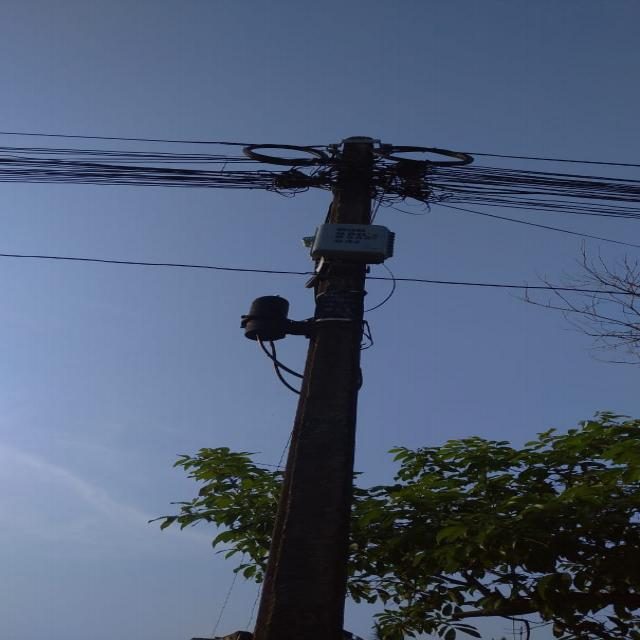light_pole: (242, 124, 396, 640)
